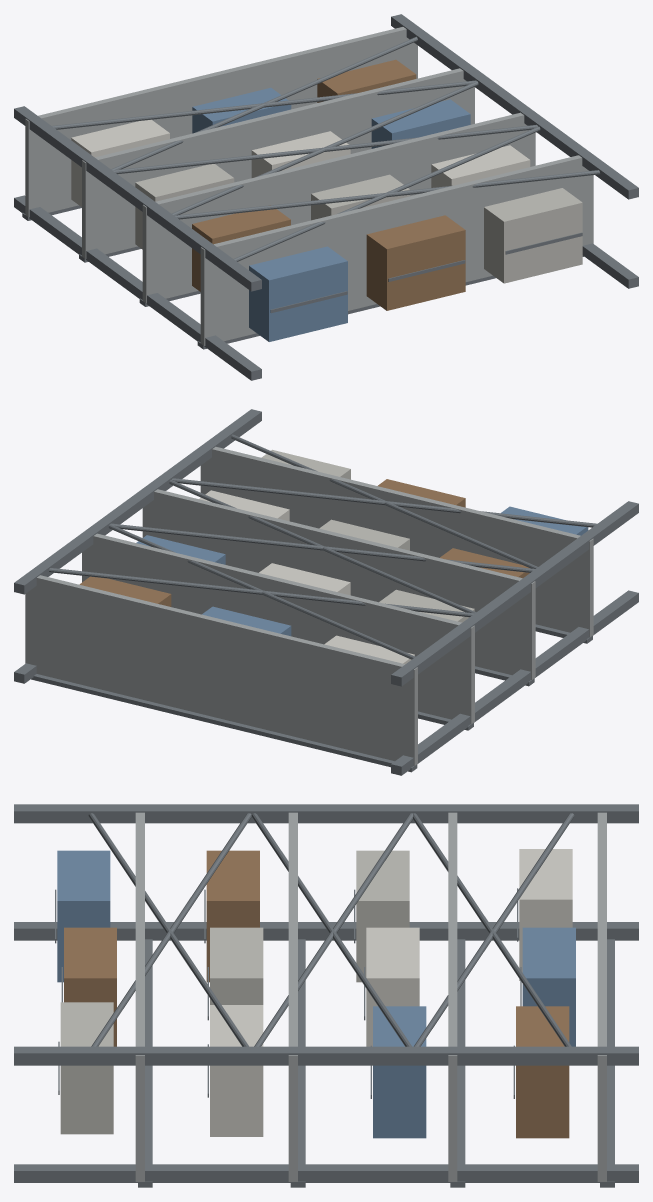
3 renders of one model, top to bottom at view 1: azimuth 30°, elevation 25°; view 2: azimuth 150°, elevation 25°; view 3: azimuth 270°, elevation 25°, orthographic. The views are drawn at different scales.
Parts seen in each view (by area): view 1: PR-008_010_FoldedSteelShelf_stainless, PR-008_006_FoldedSteelShelf_stainless, PR-008_004_FoldedSteelShelf_stainless, PR-008_008_FoldedSteelShelf_stainless, PR-008_038_PaperBox_10_wood, PR-008_040_PaperBox_11_paper_side, PR-008_036_PaperBox_9_blue, PR-008_001_GalvanizedUpright_steel_dark, PR-008_003_GalvanizedUpright_steel_dark, PR-008_000_GalvanizedUpright_steel_dark, PR-008_018_PaperBox_0_paper, PR-008_028_PaperBox_5_blue (+14 smaller); view 2: PR-008_004_FoldedSteelShelf_stainless, PR-008_008_FoldedSteelShelf_stainless, PR-008_010_FoldedSteelShelf_stainless, PR-008_006_FoldedSteelShelf_stainless, PR-008_001_GalvanizedUpright_steel_dark, PR-008_003_GalvanizedUpright_steel_dark, PR-008_000_GalvanizedUpright_steel_dark, PR-008_005_ShelfFrontLip_steel_dark, PR-008_013_RearCrossBrace_steel_dark, PR-008_017_RearCrossBrace_steel_dark, PR-008_015_RearCrossBrace_steel_dark, PR-008_012_RearCrossBrace_steel_dark (+14 smaller); view 3: PR-008_003_GalvanizedUpright_steel_dark, PR-008_001_GalvanizedUpright_steel_dark, PR-008_002_GalvanizedUpright_steel_dark, PR-008_000_GalvanizedUpright_steel_dark, PR-008_040_PaperBox_11_paper_side, PR-008_022_PaperBox_2_wood, PR-008_028_PaperBox_5_blue, PR-008_034_PaperBox_8_paper, PR-008_036_PaperBox_9_blue, PR-008_026_PaperBox_4_paper, PR-008_020_PaperBox_1_blue, PR-008_024_PaperBox_3_paper_side (+18 smaller).
Part boxes in pixels (left/top/right/bottom): PR-008_010_FoldedSteelShelf_stainless: left=200, top=155, right=593, bottom=345; PR-008_006_FoldedSteelShelf_stainless: left=82, top=68, right=474, bottom=258; PR-008_004_FoldedSteelShelf_stainless: left=25, top=27, right=417, bottom=217; PR-008_008_FoldedSteelShelf_stainless: left=142, top=112, right=535, bottom=303; PR-008_038_PaperBox_10_wood: left=366, top=215, right=465, bottom=310; PR-008_040_PaperBox_11_paper_side: left=484, top=188, right=582, bottom=283; PR-008_036_PaperBox_9_blue: left=249, top=246, right=347, bottom=341; PR-008_001_GalvanizedUpright_steel_dark: left=14, top=106, right=261, bottom=291; PR-008_003_GalvanizedUpright_steel_dark: left=391, top=14, right=638, bottom=199; PR-008_000_GalvanizedUpright_steel_dark: left=14, top=195, right=261, bottom=380; PR-008_018_PaperBox_0_paper: left=71, top=119, right=169, bottom=206; PR-008_028_PaperBox_5_blue: left=371, top=99, right=470, bottom=148; PR-008_004_FoldedSteelShelf_stainless: left=25, top=575, right=417, bottom=765; PR-008_008_FoldedSteelShelf_stainless: left=142, top=489, right=535, bottom=679; PR-008_010_FoldedSteelShelf_stainless: left=200, top=446, right=593, bottom=637; PR-008_006_FoldedSteelShelf_stainless: left=82, top=533, right=474, bottom=724; PR-008_001_GalvanizedUpright_steel_dark: left=391, top=501, right=638, bottom=686; PR-008_003_GalvanizedUpright_steel_dark: left=14, top=409, right=261, bottom=594; PR-008_000_GalvanizedUpright_steel_dark: left=391, top=590, right=638, bottom=775; PR-008_005_ShelfFrontLip_steel_dark: left=31, top=674, right=417, bottom=772; PR-008_013_RearCrossBrace_steel_dark: left=49, top=568, right=474, bottom=617; PR-008_017_RearCrossBrace_steel_dark: left=172, top=478, right=596, bottom=527; PR-008_015_RearCrossBrace_steel_dark: left=110, top=523, right=535, bottom=572; PR-008_012_RearCrossBrace_steel_dark: left=108, top=524, right=415, bottom=659; PR-008_003_GalvanizedUpright_steel_dark: left=14, top=1046, right=638, bottom=1065; PR-008_001_GalvanizedUpright_steel_dark: left=14, top=804, right=638, bottom=823; PR-008_002_GalvanizedUpright_steel_dark: left=14, top=1164, right=638, bottom=1182; PR-008_000_GalvanizedUpright_steel_dark: left=14, top=922, right=638, bottom=940; PR-008_040_PaperBox_11_paper_side: left=60, top=1002, right=113, bottom=1134; PR-008_022_PaperBox_2_wood: left=516, top=1006, right=569, bottom=1138; PR-008_028_PaperBox_5_blue: left=373, top=1006, right=426, bottom=1138; PR-008_034_PaperBox_8_paper: left=210, top=1005, right=263, bottom=1136; PR-008_036_PaperBox_9_blue: left=57, top=850, right=110, bottom=982; PR-008_026_PaperBox_4_paper: left=366, top=927, right=419, bottom=1046; PR-008_020_PaperBox_1_blue: left=522, top=927, right=575, bottom=1046; PR-008_024_PaperBox_3_paper_side: left=356, top=850, right=409, bottom=982.
Size of the model in its own units: 1.78 by 0.443 by 1.88.
